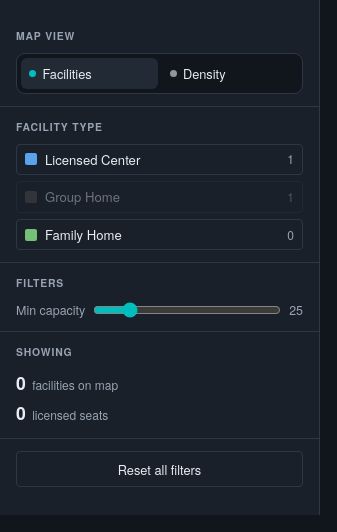
it: AppSidebar › Reset all filters › stats update immediately after reset reflects full provider set
Expected: the text with test id "stat-facility-count" reads "0", top-left (16, 370), bottom-right (26, 394)
Click the button with test id "btn-reset": (160, 469) top-left (16, 451), bottom-right (303, 487)
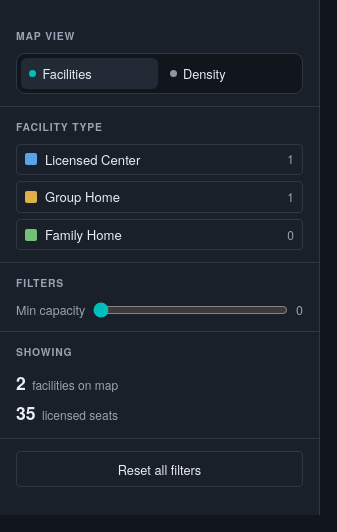
Expected: the text with test id "stat-facility-count" reads "2", top-left (16, 370), bottom-right (26, 394)
Expected: the text with test id "stat-total-seats" reads "35", top-left (16, 400), bottom-right (36, 425)
